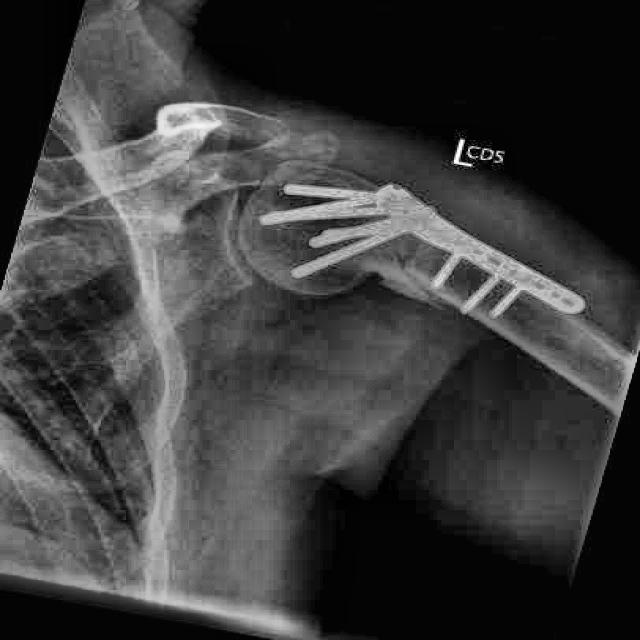shoulder fracture: (344, 248, 486, 332)
